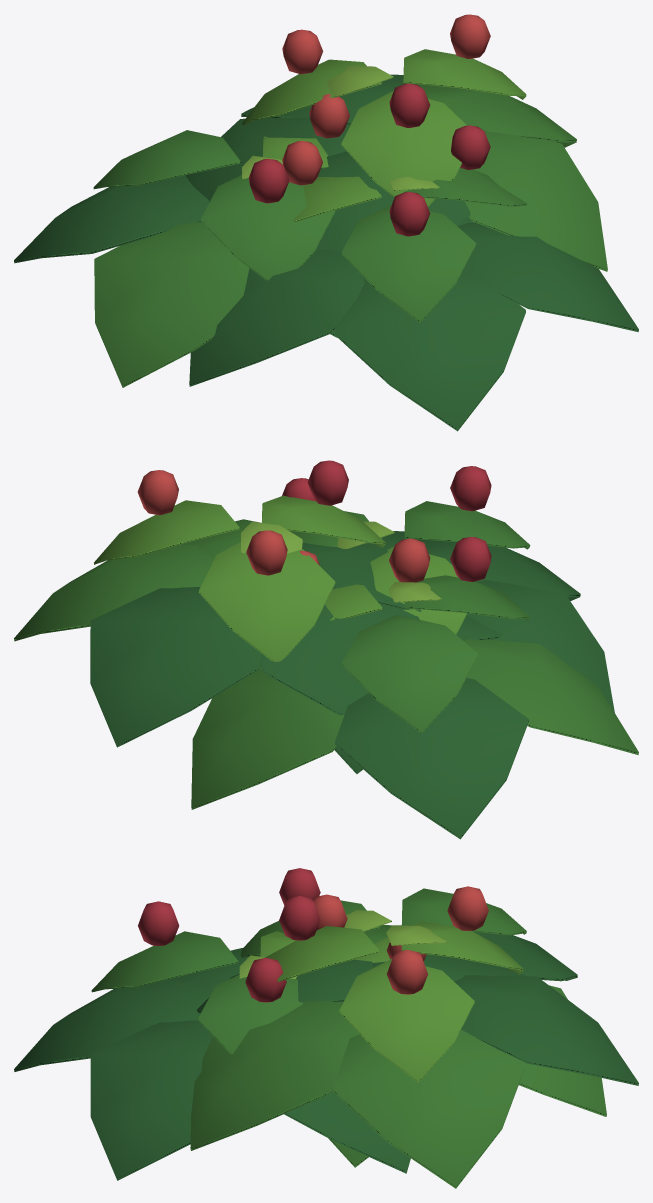
Rendered from berry_bush.glb.
The picture shows the model from 3 angles, top to bottom: view 1: azimuth 30°, elevation 25°; view 2: azimuth 150°, elevation 25°; view 3: azimuth 270°, elevation 25°; orthographic projection.
Visible parts, largest first — view 1: berry_bush; view 2: berry_bush; view 3: berry_bush.
Part boxes in pixels (bbox=[...]): berry_bush: bbox=[14, 14, 638, 431]; berry_bush: bbox=[14, 460, 638, 839]; berry_bush: bbox=[14, 868, 638, 1188].
Bounding box in the file's own units: 1.24 × 0.5158 × 1.26.
